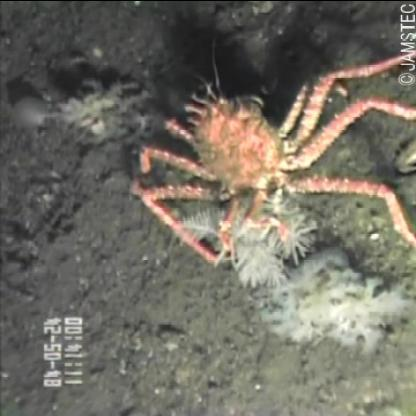Bio: (128, 46, 414, 290)
